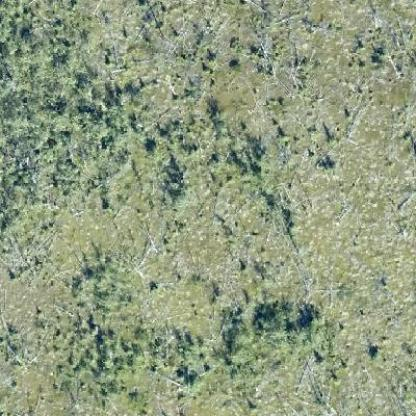tree-top: (4, 12, 50, 56), (254, 303, 294, 336), (292, 313, 326, 349), (164, 183, 190, 210), (111, 84, 134, 107)
